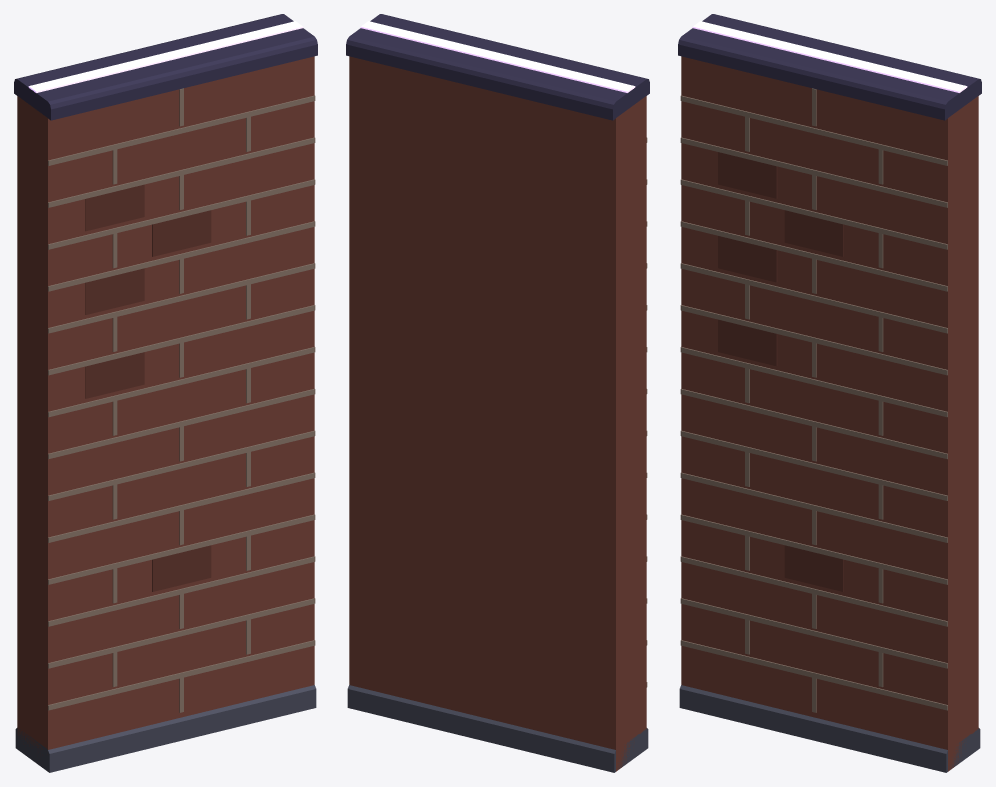
Rendered from wand_voll.glb.
3 views of the same model, side by side, from view 1: azimuth 30°, elevation 25°; view 2: azimuth 150°, elevation 25°; view 3: azimuth 330°, elevation 25° (orthographic).
Visible parts, largest first — view 1: wand_voll; view 2: wand_voll; view 3: wand_voll.
Part boxes in pixels (x1,y1,x2,y2): wand_voll: (14, 14, 317, 772); wand_voll: (346, 14, 649, 772); wand_voll: (678, 14, 981, 772).
Size of the model in its own units: 1 by 2.4 by 0.24.
